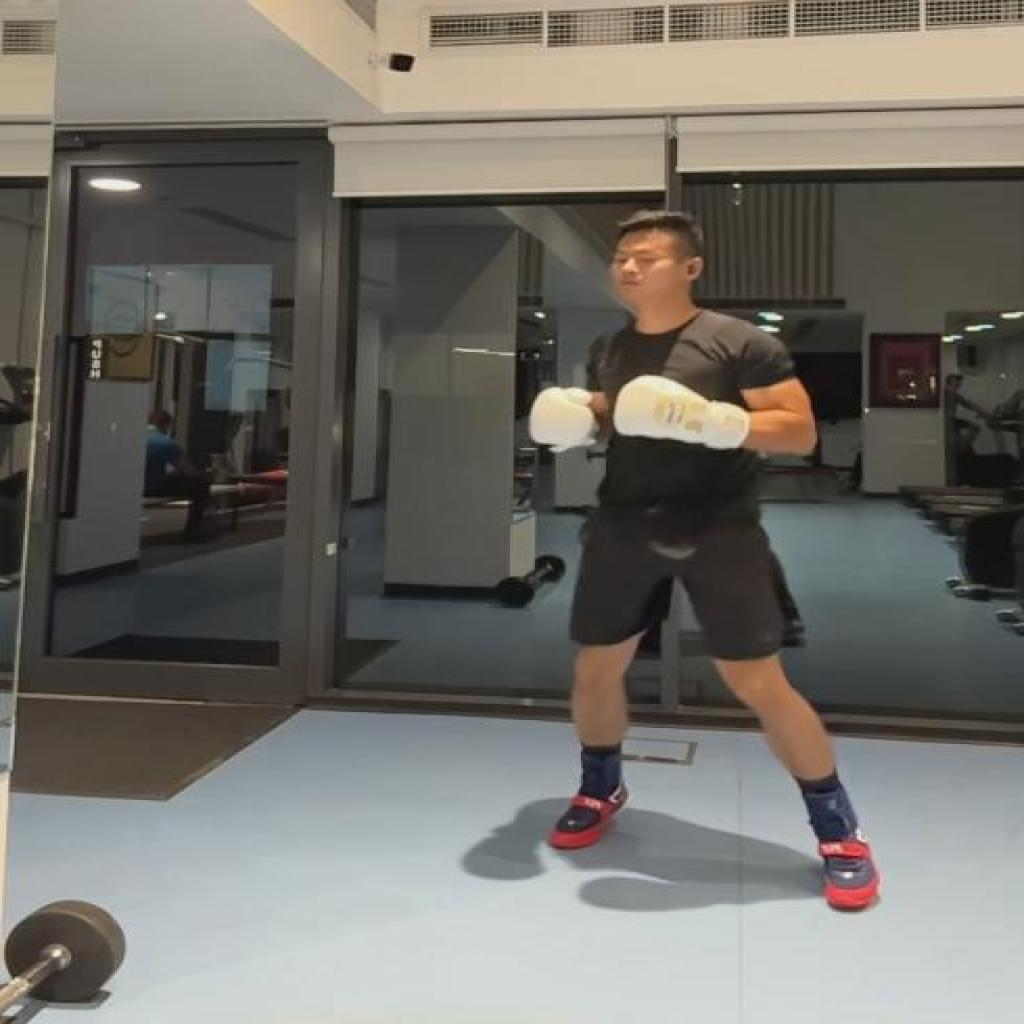no punch: (533, 210, 880, 912)
